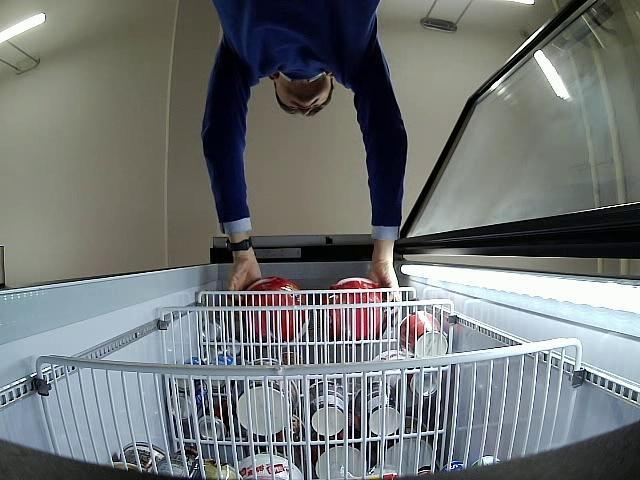10_wangTtukkeong: (240, 279, 308, 343), (331, 278, 385, 340)
